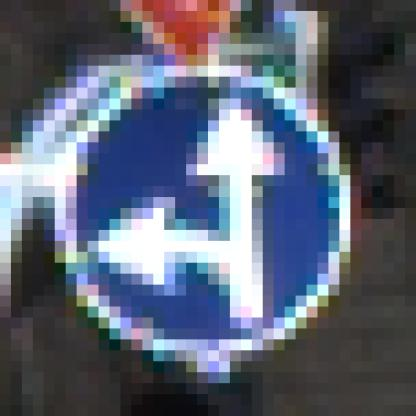Straight or Left: (56, 67, 362, 362)
